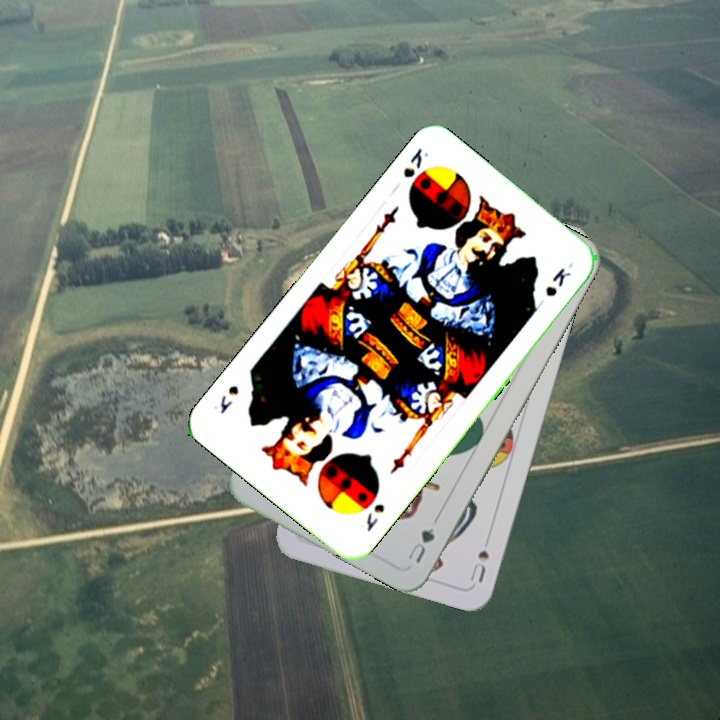GU: (404, 522, 438, 566)
SK: (399, 143, 431, 181), (362, 499, 387, 534)
SU: (466, 546, 492, 585)
